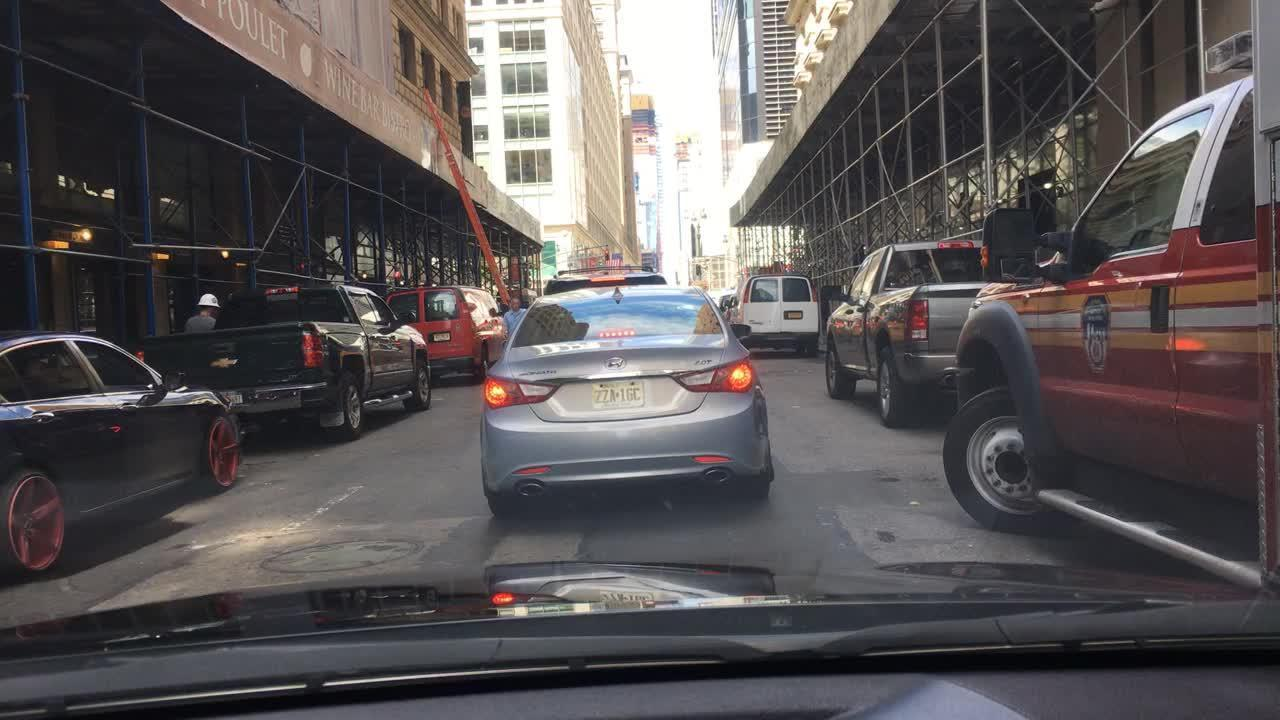Hyundai: (596, 350, 634, 374)
